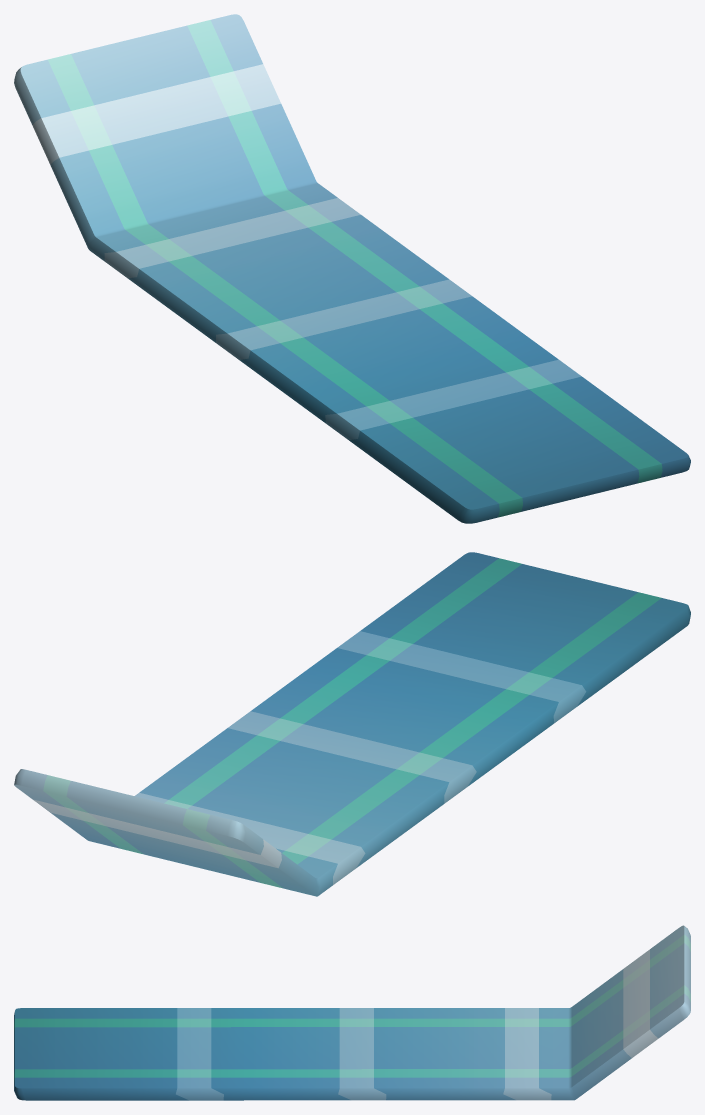
File: SunLounger_Mattress_Cheess_B.fbx
3 renders of one model, top to bottom at view 1: azimuth 30°, elevation 25°; view 2: azimuth 150°, elevation 25°; view 3: azimuth 270°, elevation 25°, orthographic. The views are drawn at different scales.
Visible parts, largest first — view 1: SunLounger_Mattress_Cheess_B; view 2: SunLounger_Mattress_Cheess_B; view 3: SunLounger_Mattress_Cheess_B.
Part boxes in pixels (x1=…): SunLounger_Mattress_Cheess_B: x1=14, y1=14, x2=690, y2=523; SunLounger_Mattress_Cheess_B: x1=14, y1=552, x2=690, y2=896; SunLounger_Mattress_Cheess_B: x1=14, y1=925, x2=690, y2=1100.
Size of the model in its own units: 45.43 by 24.42 by 157.
